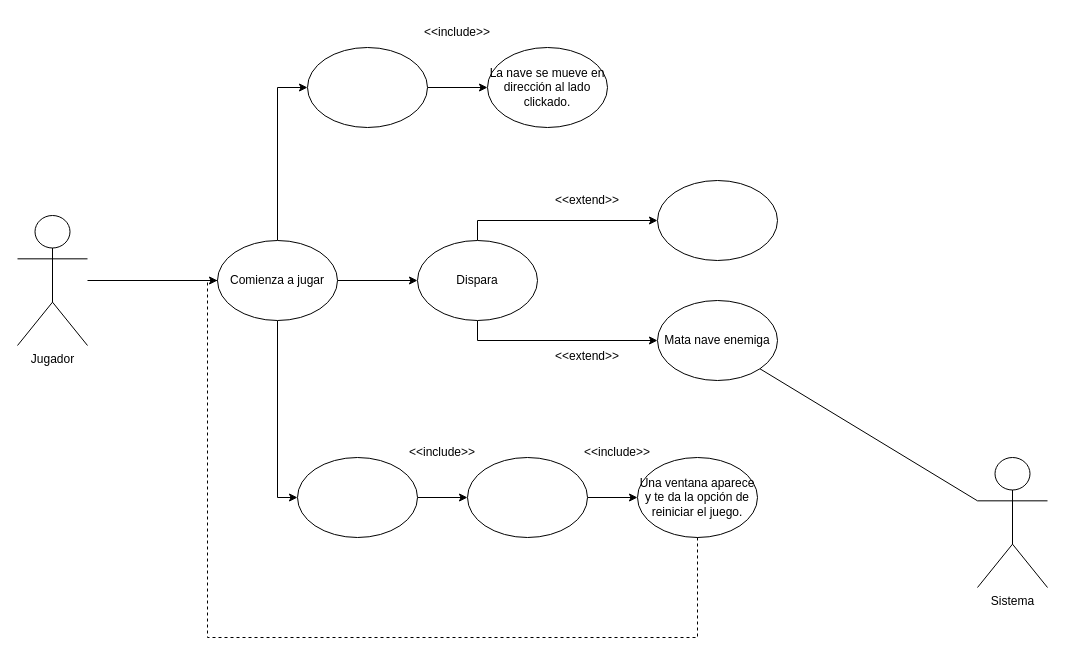
This 1065x656 diagram has some shape labels left out. The shapes that lost their labels are listed below. From the top down, each one's centre as x and y in pixels, then its label:
pixel 367 87: Si hace click en determinada parte de la pantalla
pixel 717 220: No mata nave enemiga
pixel 357 497: Si recibe disparo enemigo
pixel 527 497: Se acaba el juego
